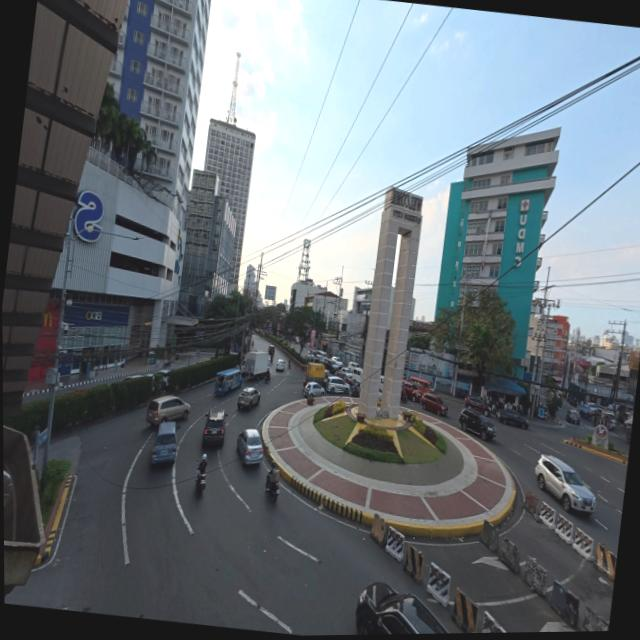Jeepneys: (213, 369, 241, 395), (409, 376, 431, 394)
car: (355, 582, 446, 634), (535, 455, 595, 512), (145, 396, 189, 426), (458, 408, 495, 440), (150, 422, 178, 464), (201, 407, 225, 447), (236, 428, 262, 464), (496, 409, 528, 429), (420, 393, 447, 416), (236, 387, 259, 410), (463, 396, 488, 416), (325, 376, 349, 394), (402, 381, 422, 402), (302, 381, 323, 397), (334, 369, 353, 385), (599, 411, 615, 429), (577, 404, 593, 419), (157, 370, 169, 388), (565, 410, 579, 425), (323, 360, 338, 372), (351, 368, 362, 384), (339, 367, 352, 379), (121, 374, 143, 381), (316, 351, 328, 363), (330, 357, 342, 367), (585, 402, 597, 411), (275, 359, 284, 371), (348, 362, 359, 369), (378, 384, 382, 395), (294, 337, 299, 345)
motorcycle: (265, 475, 279, 502), (195, 469, 205, 495), (264, 372, 270, 383), (162, 359, 170, 367), (287, 360, 290, 369)
trucks: (242, 351, 268, 379), (304, 362, 324, 383)
vans: (350, 367, 362, 383), (348, 362, 358, 369)
